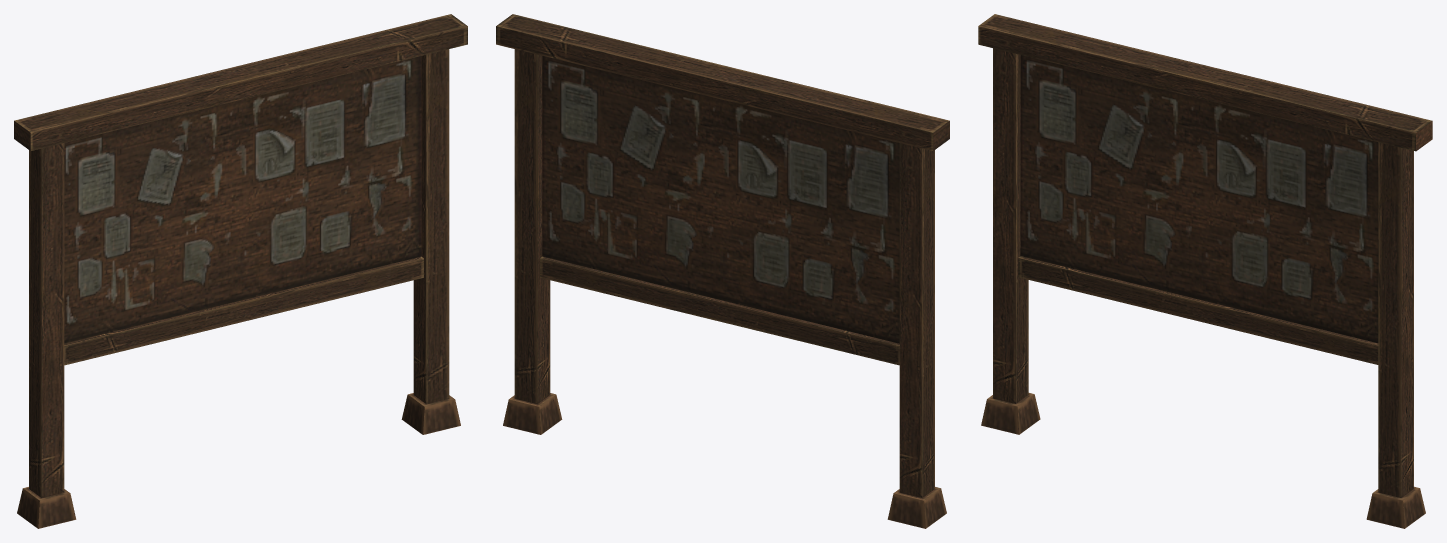
Rendered from Board01.FBX.
3 views of the same model, side by side, from view 1: azimuth 30°, elevation 25°; view 2: azimuth 150°, elevation 25°; view 3: azimuth 330°, elevation 25° (orthographic).
Parts seen in each view (by area): view 1: Board01; view 2: Board01; view 3: Board01.
Boxes of the visible parts, left/top/right/bottom form: Board01: left=14, top=14, right=467, bottom=528; Board01: left=496, top=14, right=949, bottom=528; Board01: left=978, top=14, right=1432, bottom=528.
Bounding box in the file's own units: 248 × 215 × 20.93.
